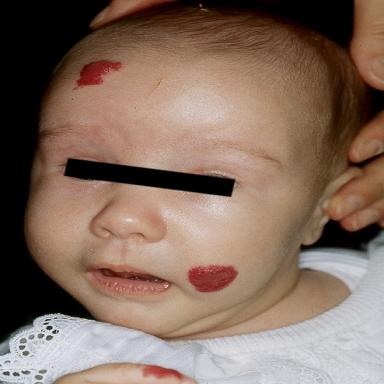Hemangiome: (73, 60, 122, 90), (188, 265, 238, 292), (143, 366, 183, 379)
